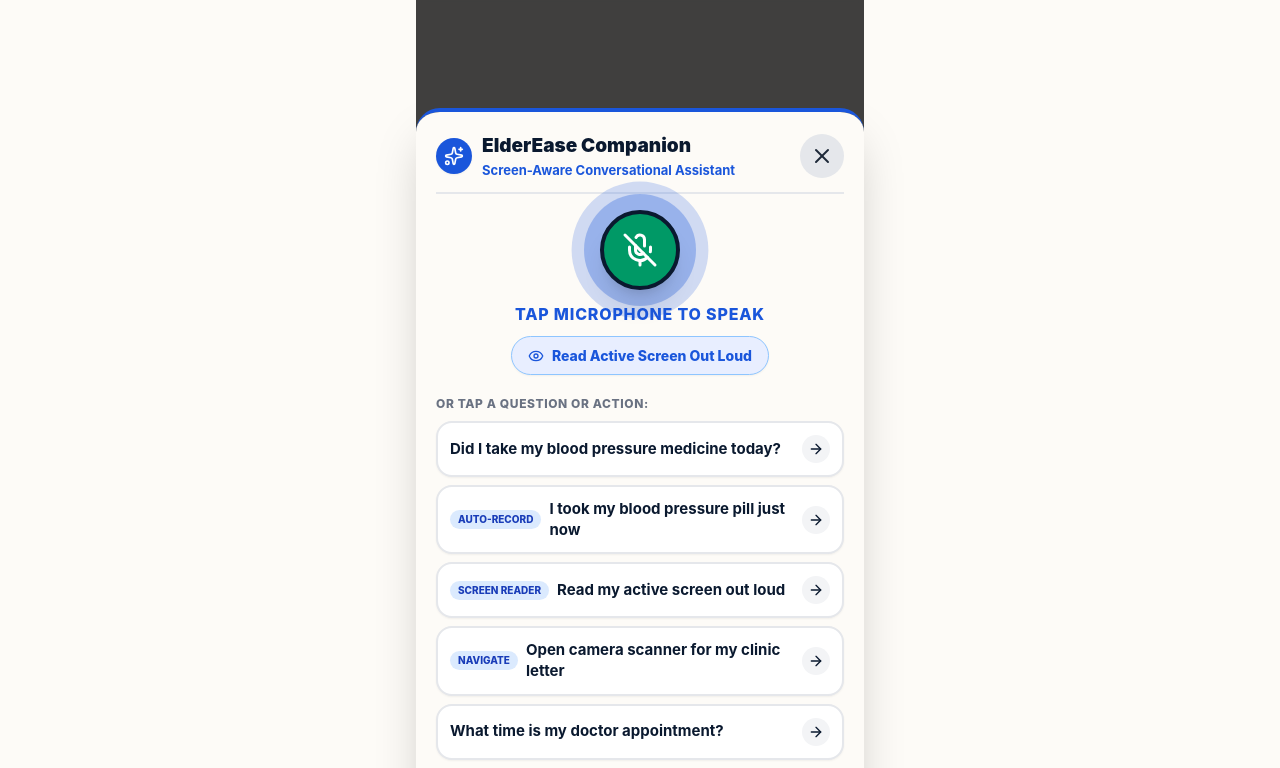
it: AICompanionOverlay Component › executes automated UI action when take medication intent is returned
The width and height of the screenshot is (1280, 768).
Click the button "Auto-record I took my blood pressure pill just now": point(640, 520) [436,485,844,554]
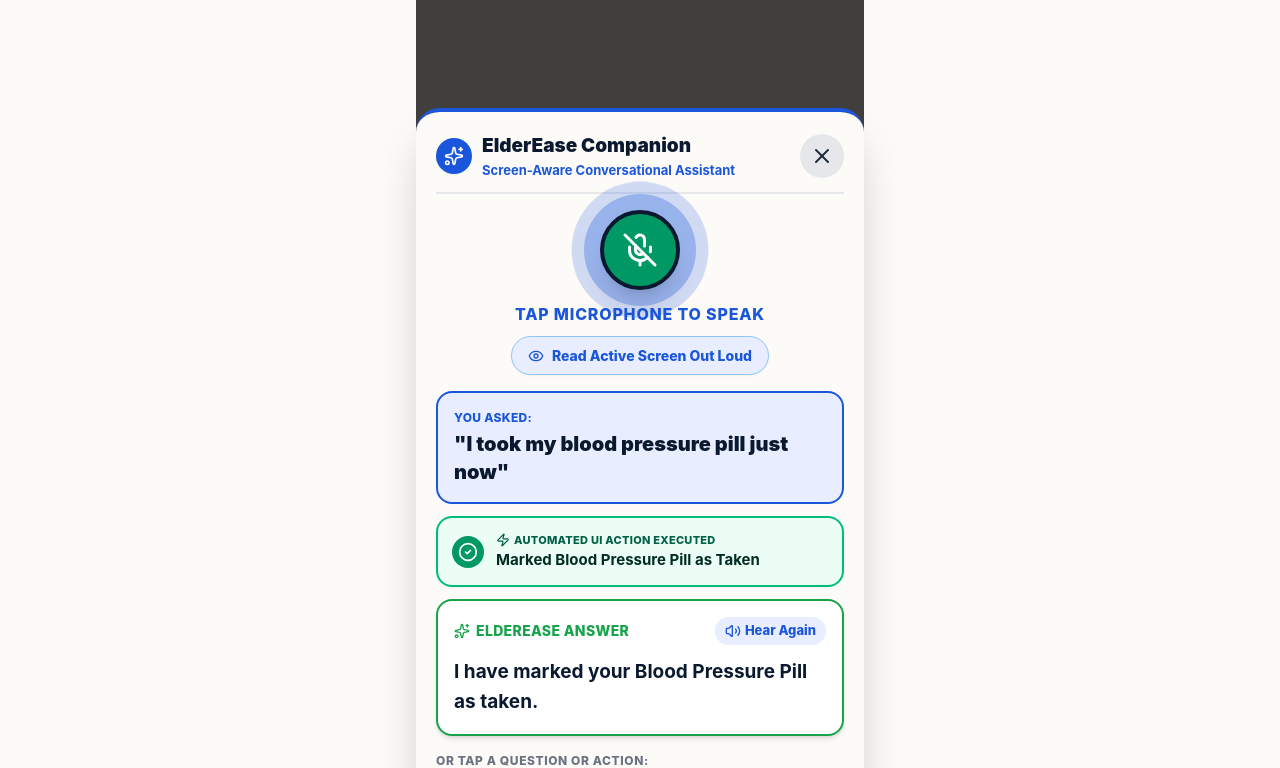
Expected: the text "Automated UI Action Executed" is shown, [496,533,716,547]
Expected: the text "Marked Blood Pressure Pill as Taken" is shown, [496,548,760,571]
